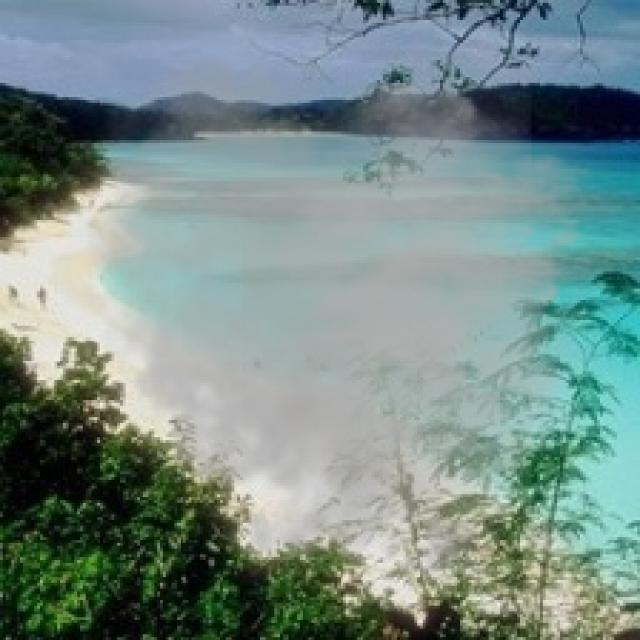Smoke: (69, 42, 628, 594)
